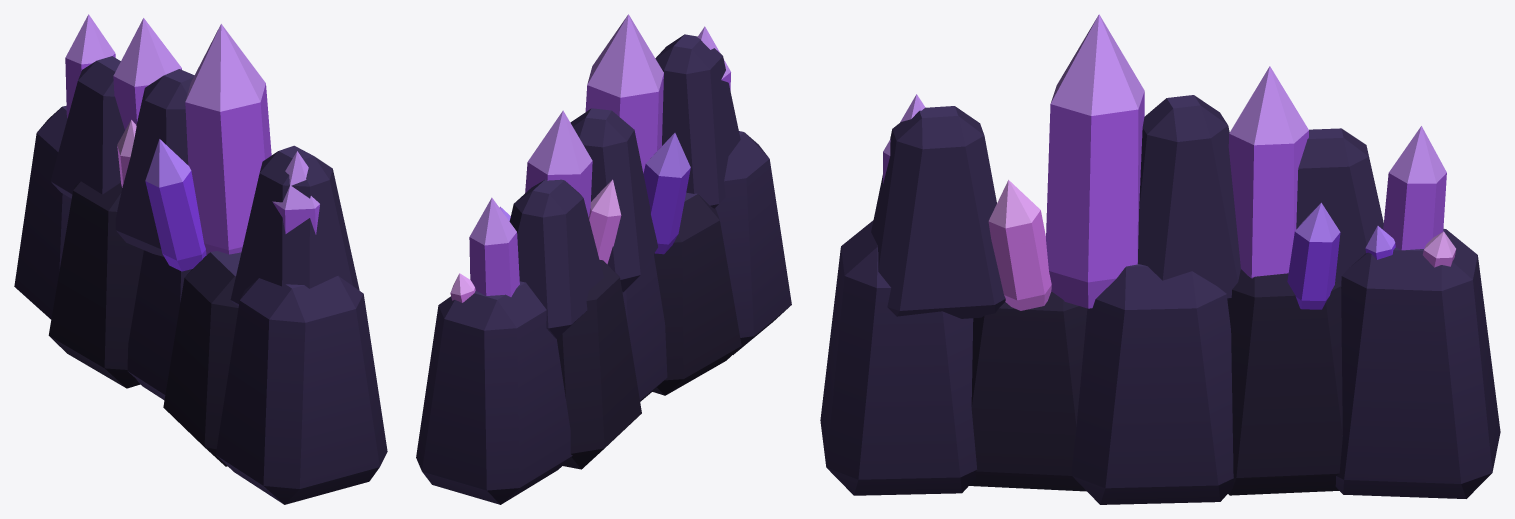
File: wall_void.glb
3 views of the same model, side by side, from view 1: azimuth 30°, elevation 25°; view 2: azimuth 150°, elevation 25°; view 3: azimuth 270°, elevation 25° (orthographic). The views are drawn at different scales.
Parts seen in each view (by area): view 1: Body, Glow; view 2: Body, Glow; view 3: Body, Glow.
Part boxes in pixels (x1,y1,x2,y2): Body: (14,56,387,504); Glow: (65,14,319,271); Body: (416,34,791,504); Glow: (450,14,730,302); Body: (820,95,1500,504); Glow: (883,14,1456,310).
Bounding box in the file's own units: 1.32 × 3.2 × 4.32.
